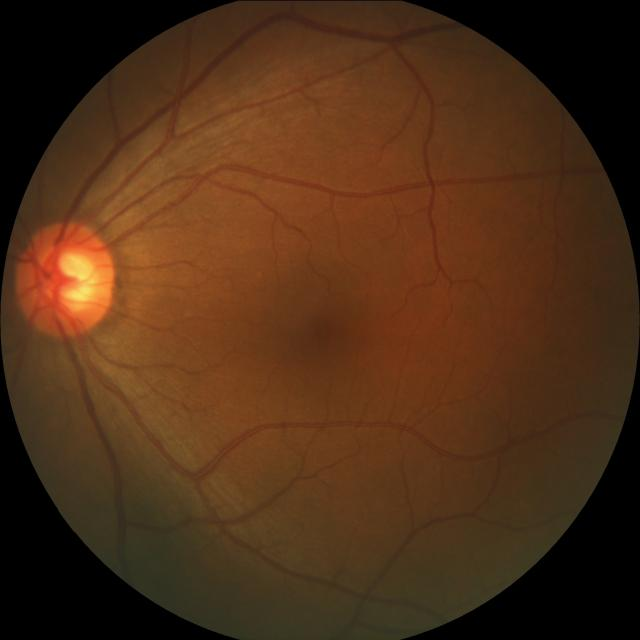OC: (32, 242, 98, 316)
OD: (16, 219, 117, 336)
